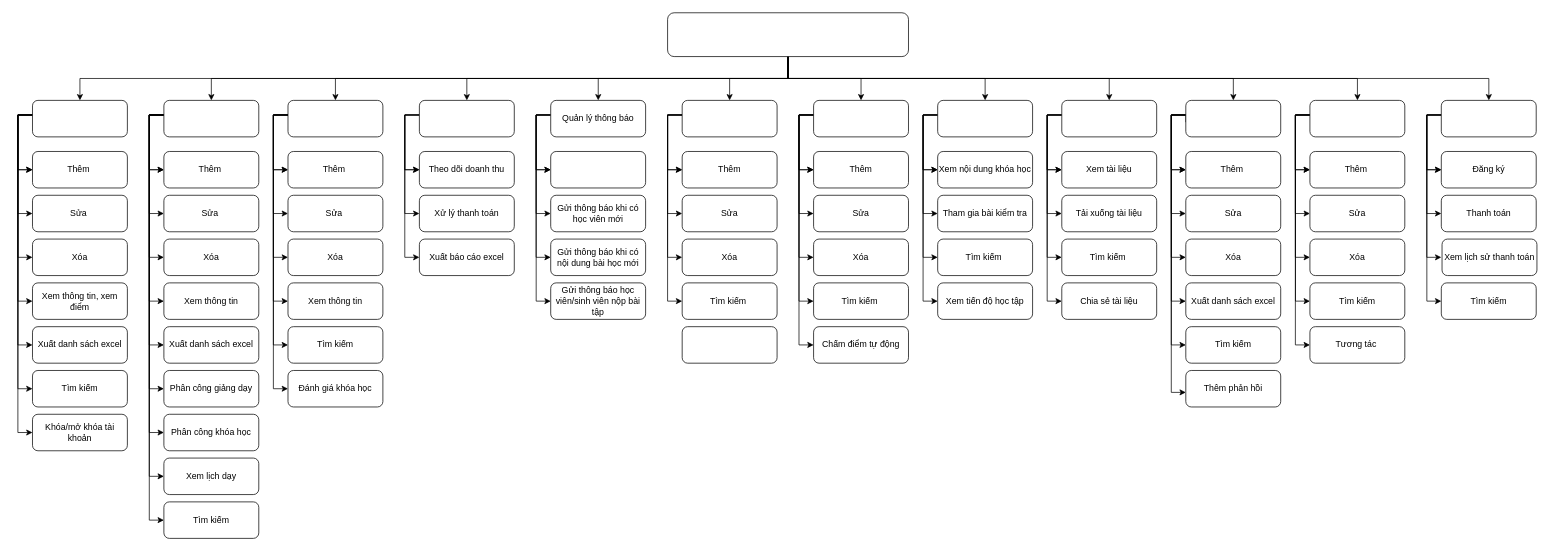
Some shapes in this 1550 by 551 pixel diagram are drawn without their labels. Here are the shapes that lost their labels. From the top down, the box of each, then its label:
(667, 12, 908, 57): Hệ thống hỗ trợ học tập eLearning trên nền tảng web
(32, 100, 127, 137): Quản lý học sinh/sinh viên
(163, 100, 259, 137): Quản lý giảng viên
(287, 100, 383, 137): Quản lý khóa học
(419, 100, 514, 137): Quản lý tài chính
(681, 100, 777, 137): Quản lý nội dung học tập
(813, 100, 908, 137): Quản lý bài kiểm tra
(937, 100, 1033, 137): Quản lý học tập
(1061, 100, 1157, 137): Quản lý tài liệu
(1185, 100, 1281, 137): Quản lý điểm số
(1309, 100, 1405, 137): Quản lý diễn đàn
(1441, 100, 1536, 137): Quản lý đăng ký khóa học
(550, 151, 646, 188): Tự động gửi maiil
(681, 326, 777, 363): Quản lý tài liệu bổ trợ
